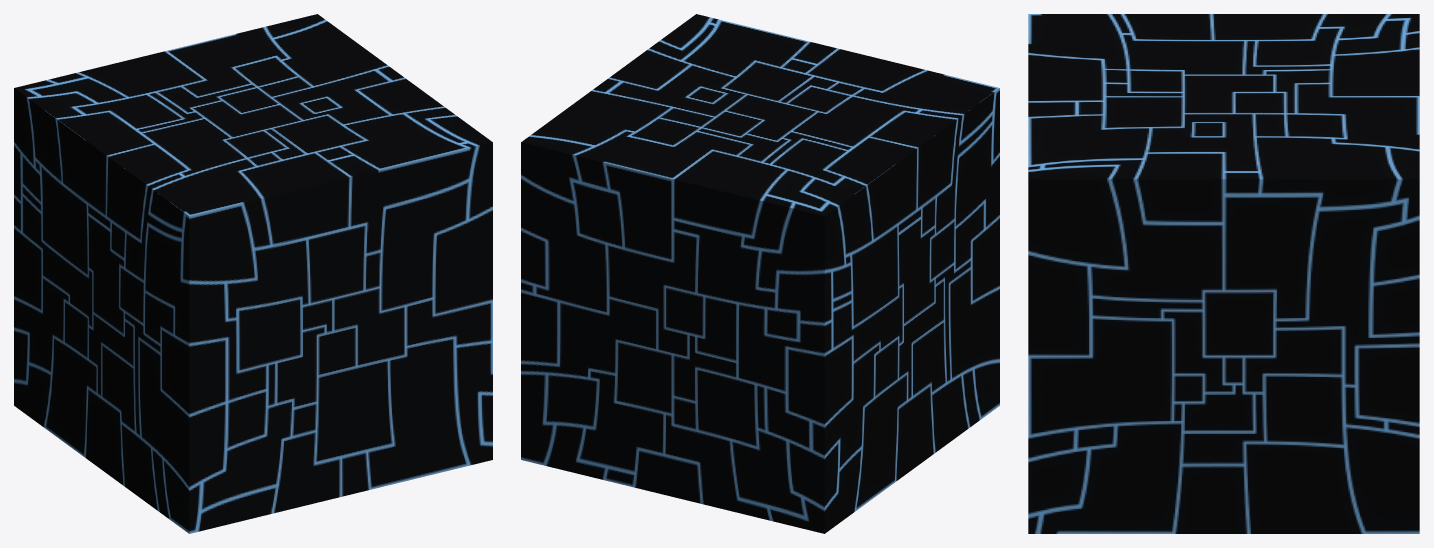
Rendered from eggBox16.glb.
The picture shows the model from 3 angles, left to right: view 1: azimuth 30°, elevation 25°; view 2: azimuth 150°, elevation 25°; view 3: azimuth 270°, elevation 25°; orthographic projection. The views are drawn at different scales.
Visible parts, largest first — view 1: customSkybox; view 2: customSkybox; view 3: customSkybox.
Boxes of the visible parts, box(x1,y1,x2,y2) form: customSkybox: box(14, 14, 492, 533); customSkybox: box(521, 14, 999, 533); customSkybox: box(1028, 14, 1419, 533).
Size of the model in its own units: 200 by 200 by 200.
3 materials, 1 textured.
